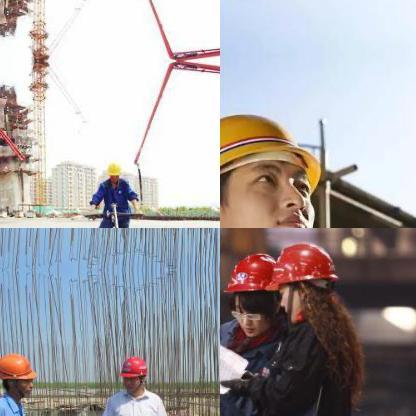Helmet: (220, 87, 333, 227), (270, 238, 338, 324), (221, 248, 285, 334), (0, 346, 41, 399), (116, 348, 148, 392), (102, 159, 124, 181)
